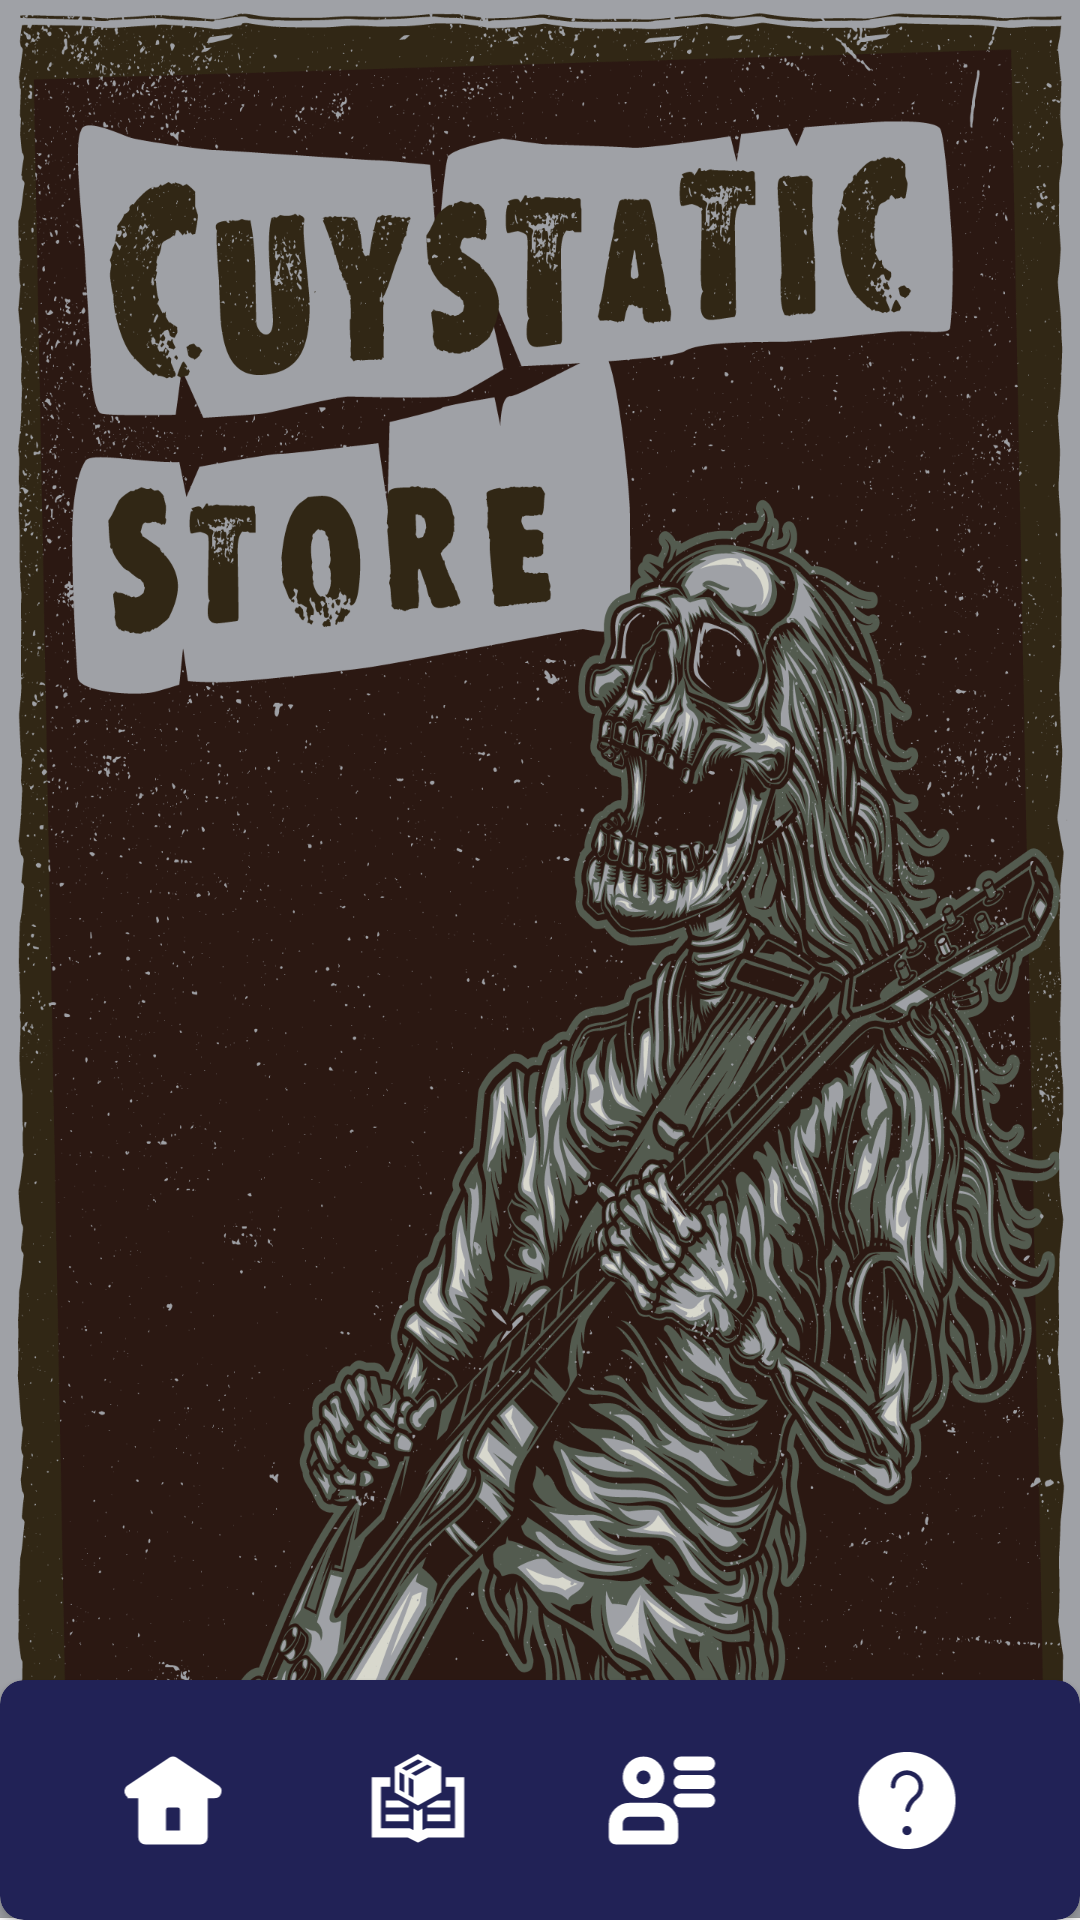

Screen size 1080px×1920px. Icon name, then its center in pixels as (x=x, y=y):
faq: (x=907, y=1800)
inicio: (x=173, y=1800)
producto: (x=418, y=1798)
user: (x=662, y=1800)
